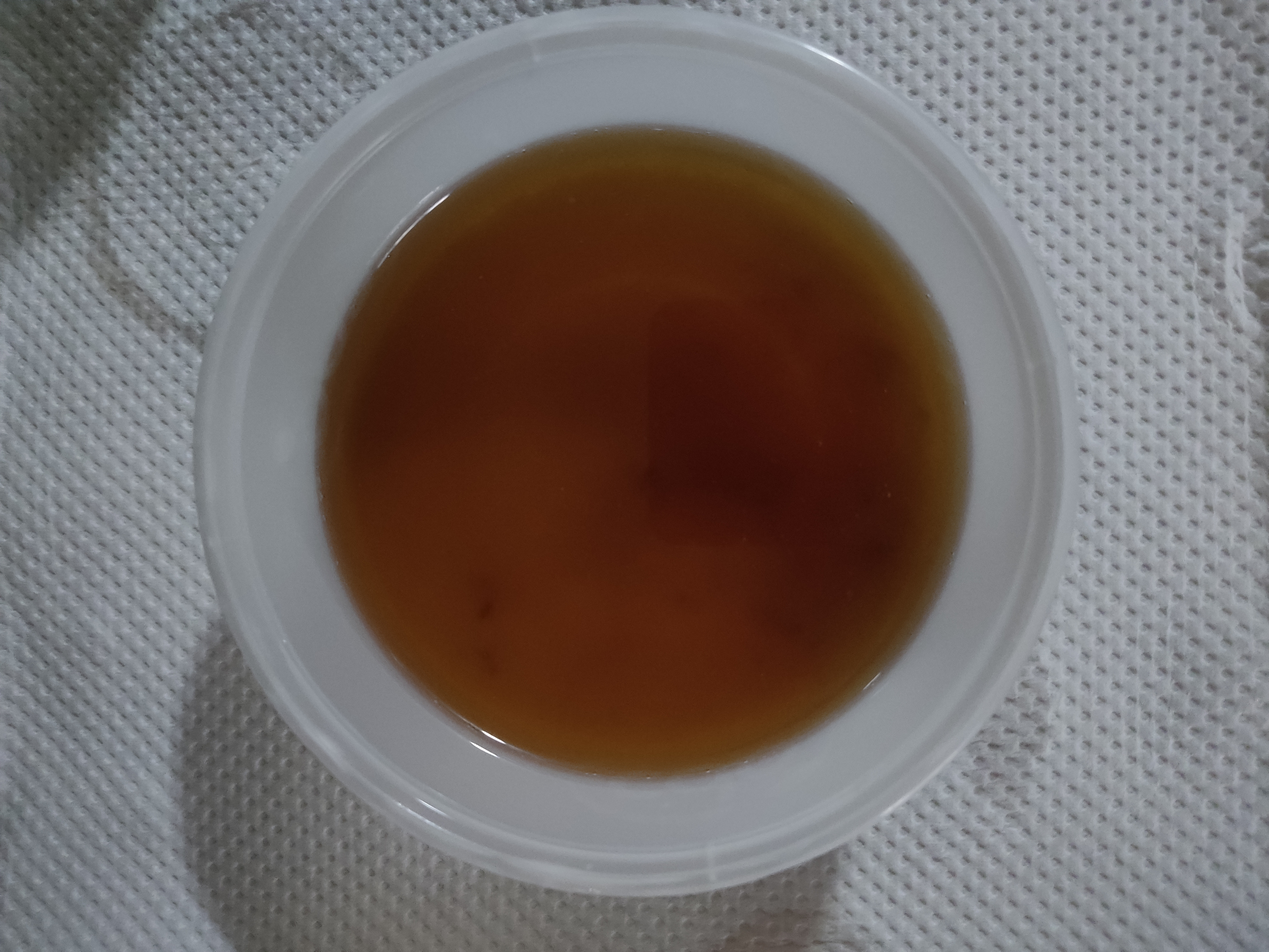non-reusable: (319, 129, 972, 791)
